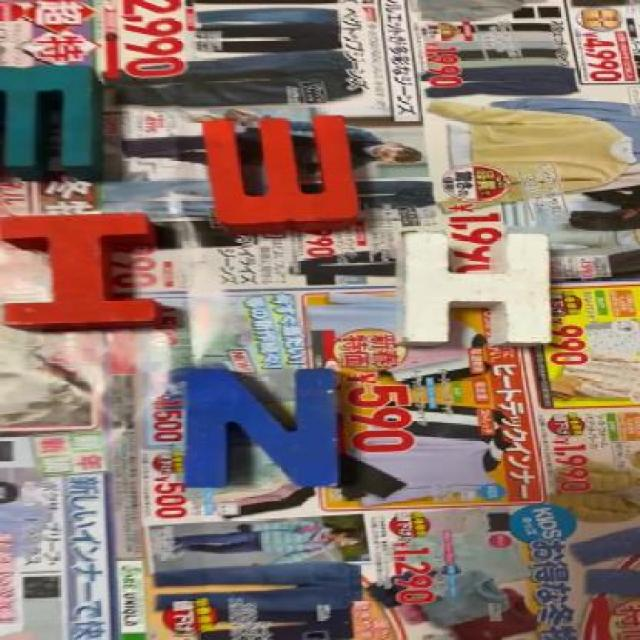H: (401, 231, 557, 349)
I: (1, 214, 172, 328)
N: (185, 371, 343, 489)
W: (202, 118, 361, 231)
